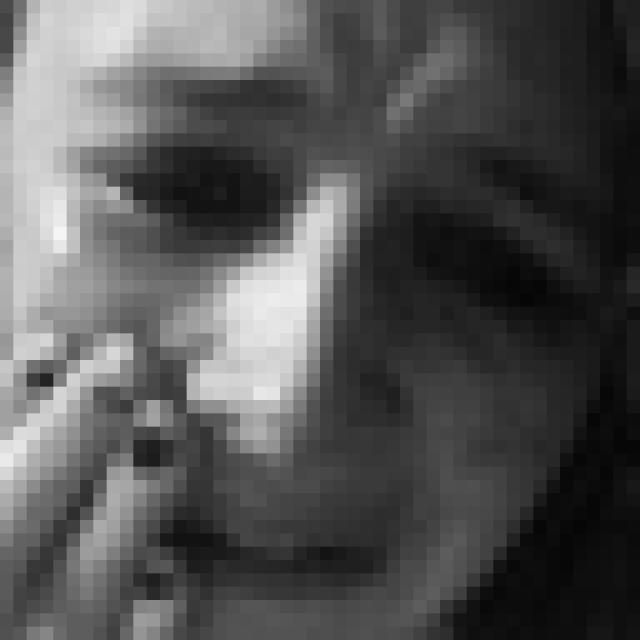sad: (67, 40, 640, 607)
